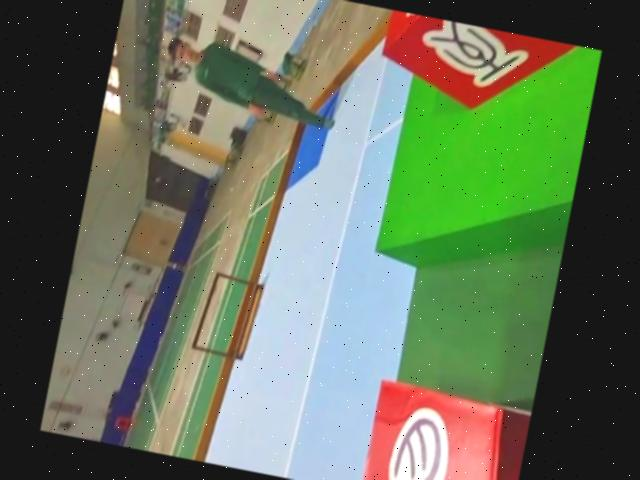R2 Fake: (368, 8, 579, 130), (353, 375, 532, 480)
